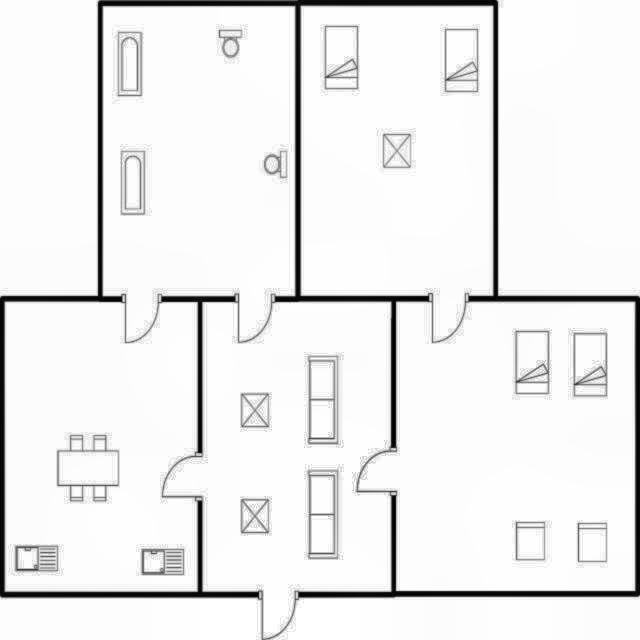room: (396, 302, 636, 591), (5, 302, 198, 592), (102, 6, 295, 296), (300, 6, 493, 296), (202, 302, 392, 592)
